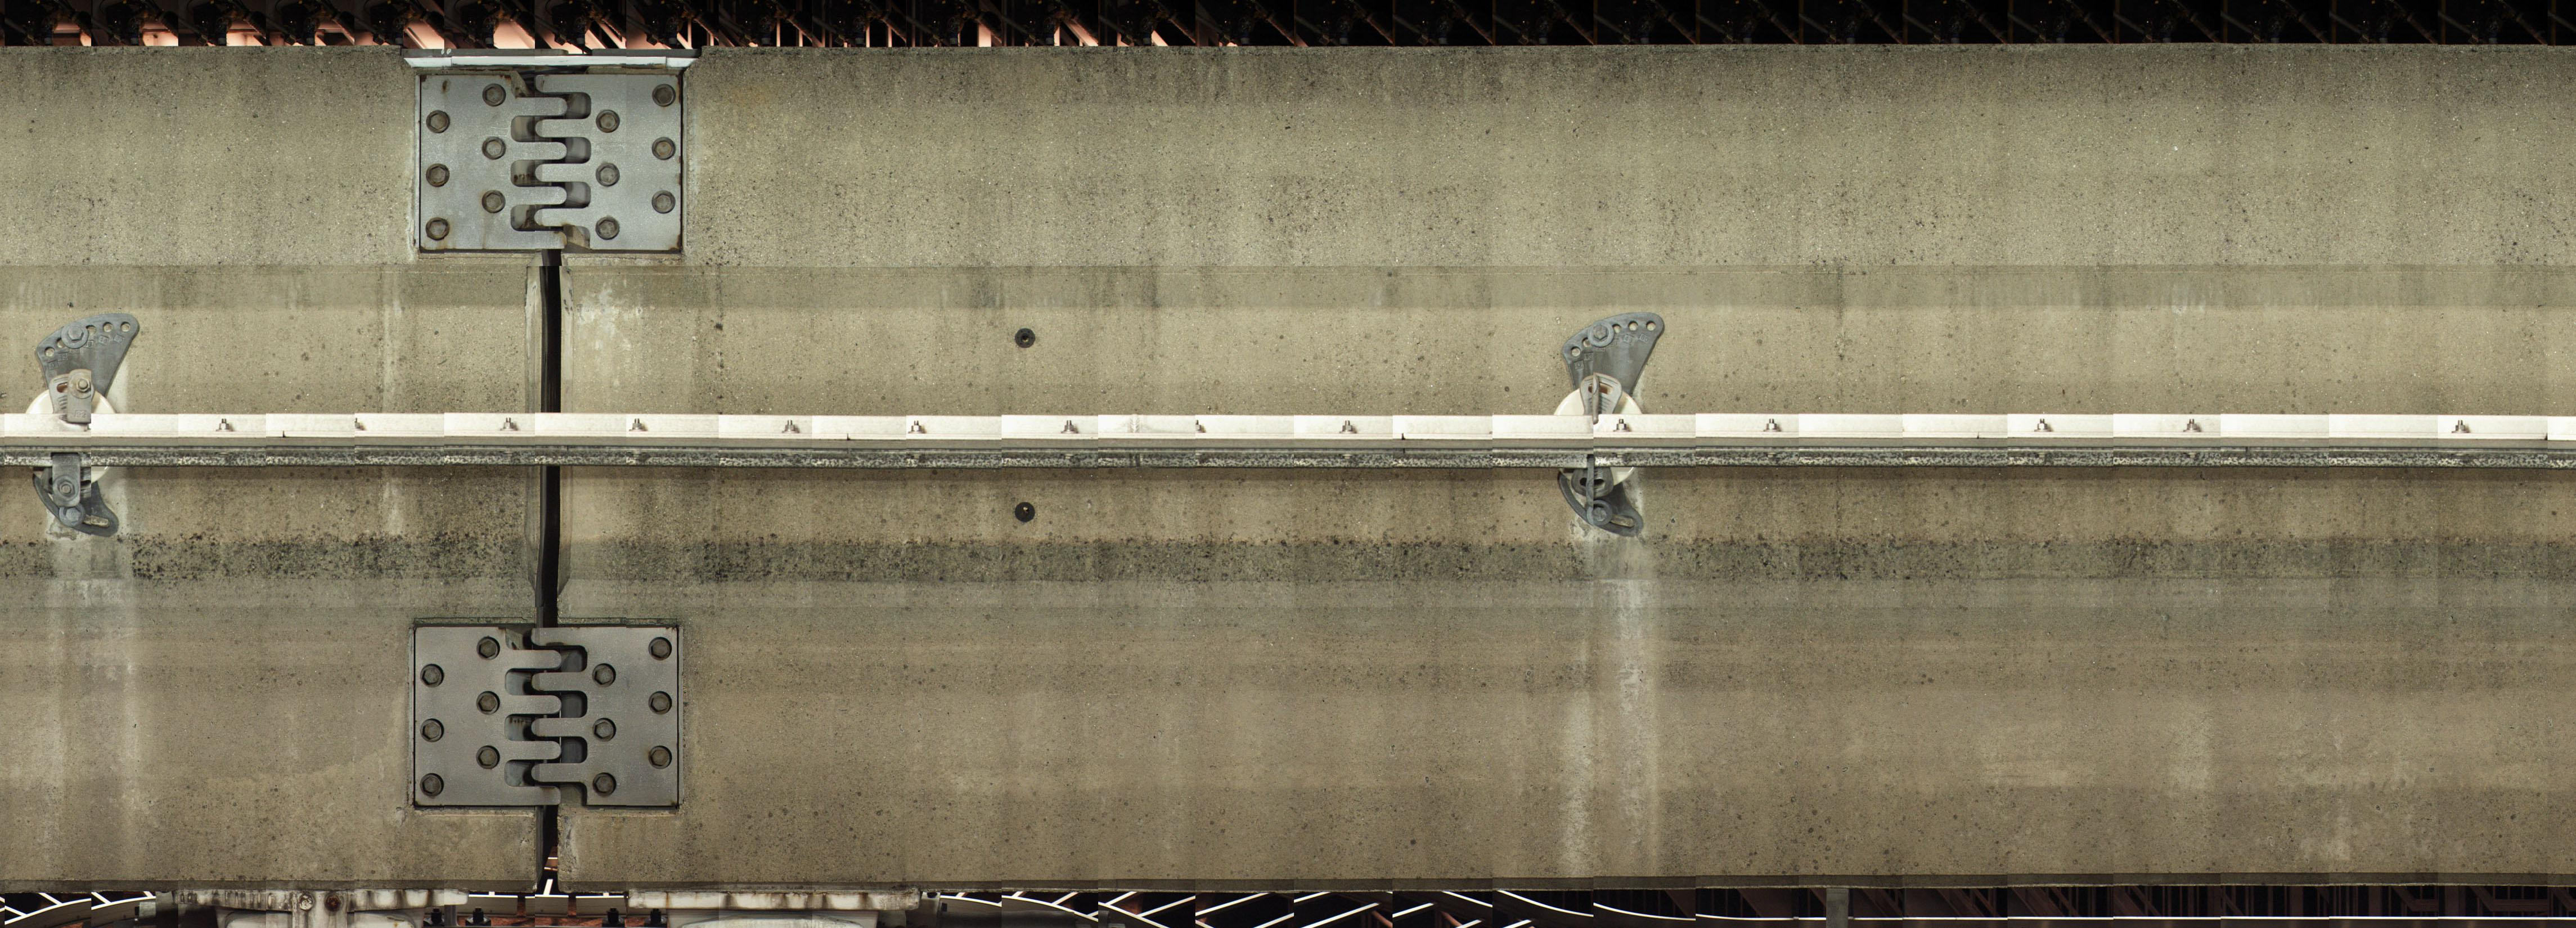concrete: (559, 465, 2576, 895), (557, 48, 2576, 416), (5, 468, 544, 889), (0, 53, 540, 419)
